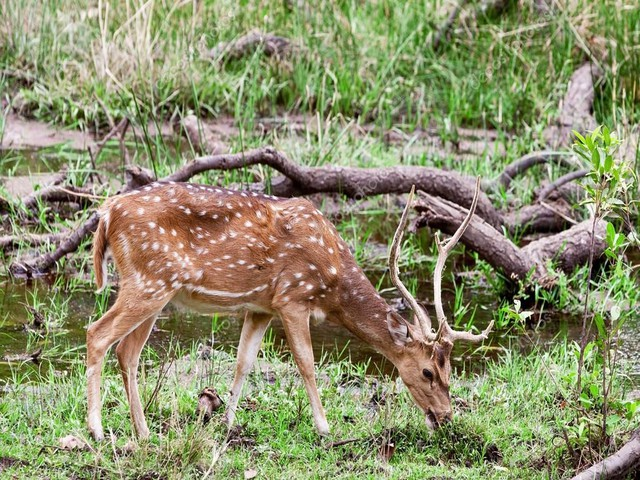deer: (69, 176, 467, 441)
